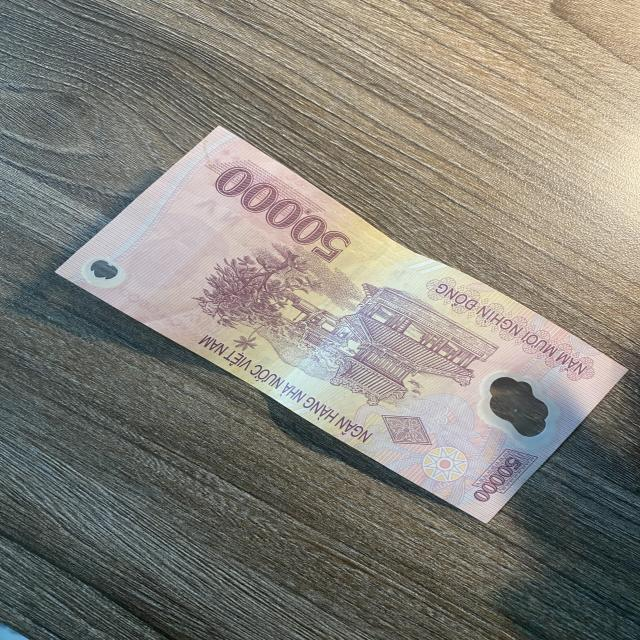50 000 VND: (53, 125, 631, 527)
